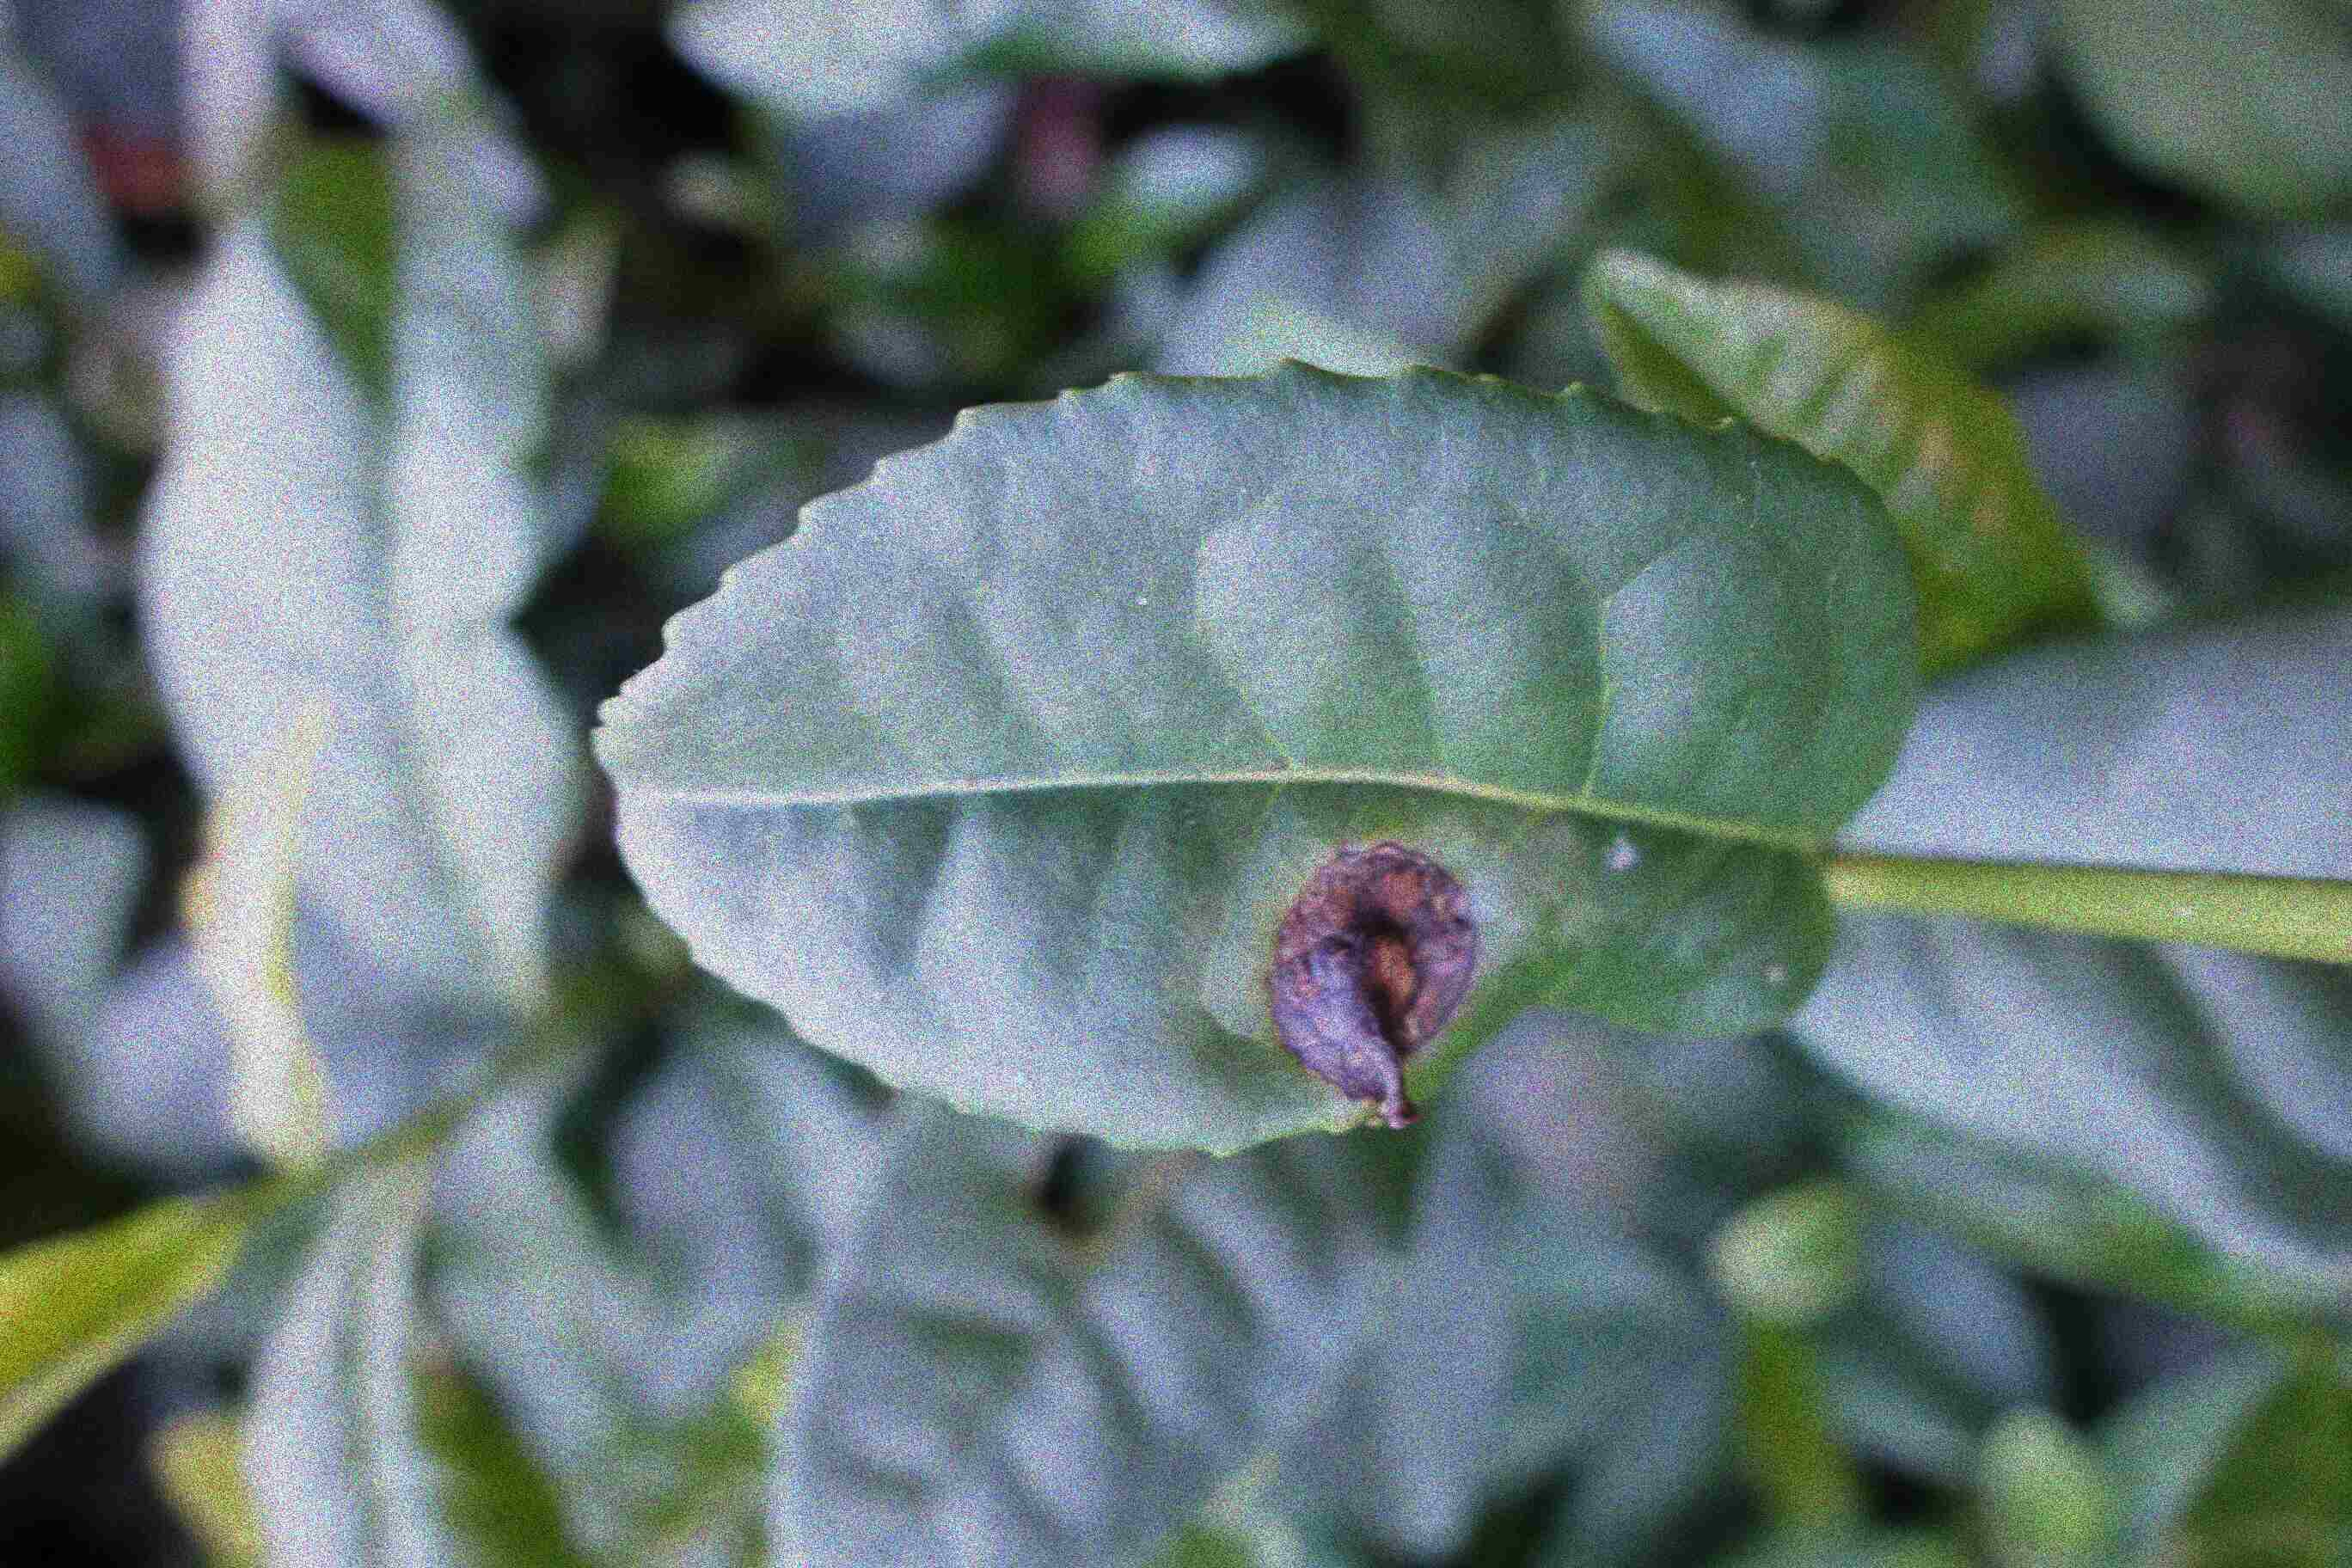tanju_high: (590, 364, 1925, 1160)
